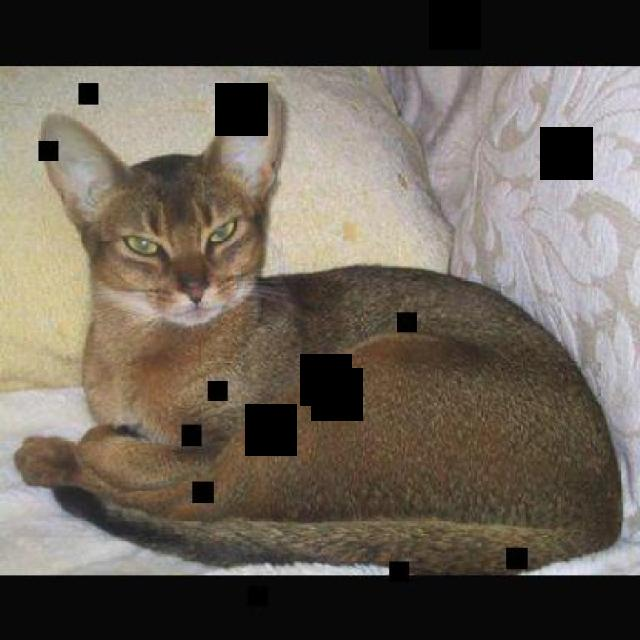unauthorized: (14, 82, 623, 572)
